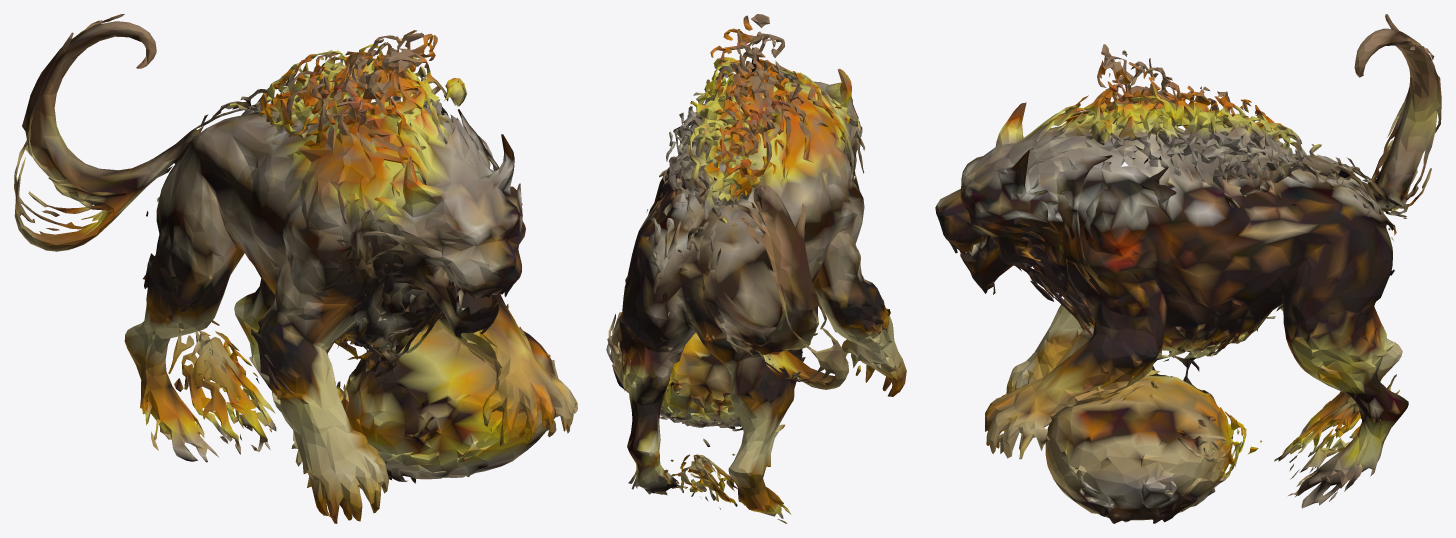
The model's file is iceDragon.glb.
3 views of the same model, side by side, from view 1: azimuth 30°, elevation 25°; view 2: azimuth 150°, elevation 25°; view 3: azimuth 270°, elevation 25° (orthographic). The views are drawn at different scales.
Parts seen in each view (by area): view 1: world; view 2: world; view 3: world.
Part boxes in pixels (box(x1,y1,x2,y2)): world: box(14, 14, 577, 523); world: box(606, 14, 906, 523); world: box(935, 14, 1441, 523).
Size of the model in its own units: 0.8762 by 1 by 1.01.
